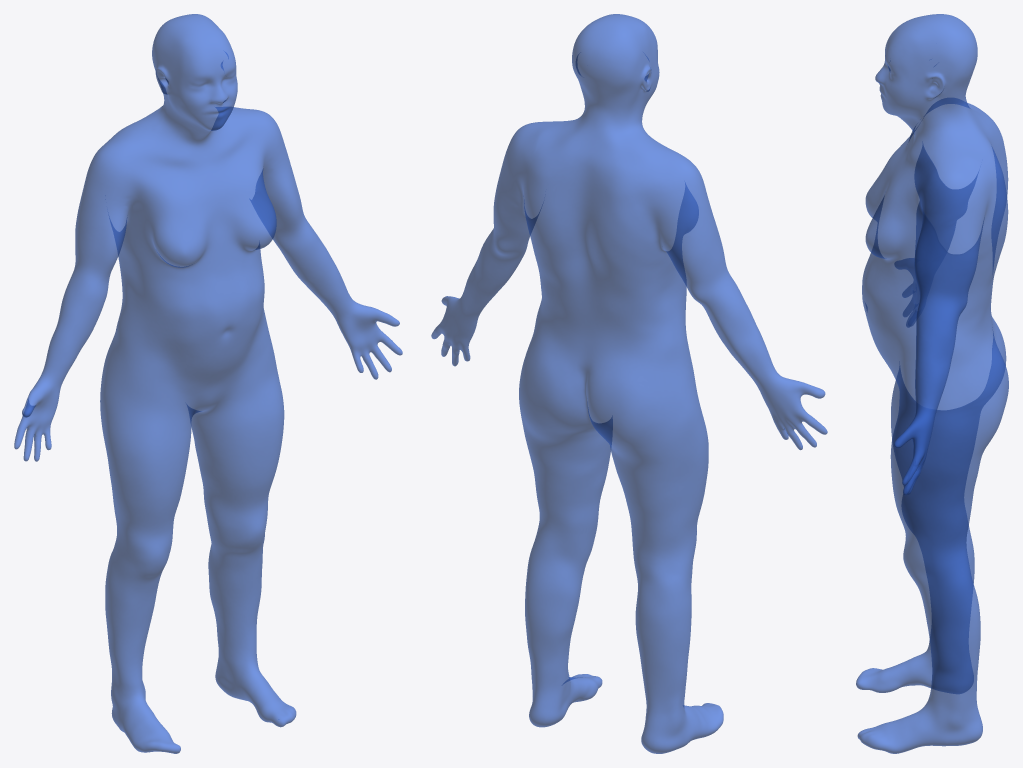
Rendered from skin-female.glb.
3 views of the same model, side by side, from view 1: azimuth 30°, elevation 25°; view 2: azimuth 150°, elevation 25°; view 3: azimuth 270°, elevation 25° (orthographic).
Visible parts, largest first — view 1: VH_F_skin; view 2: VH_F_skin; view 3: VH_F_skin.
Part boxes in pixels (bbox=[...]): VH_F_skin: bbox=[14, 14, 402, 753]; VH_F_skin: bbox=[431, 14, 827, 753]; VH_F_skin: bbox=[856, 14, 1008, 753].
Size of the model in its own units: 0.9618 by 1.66 by 0.327.
